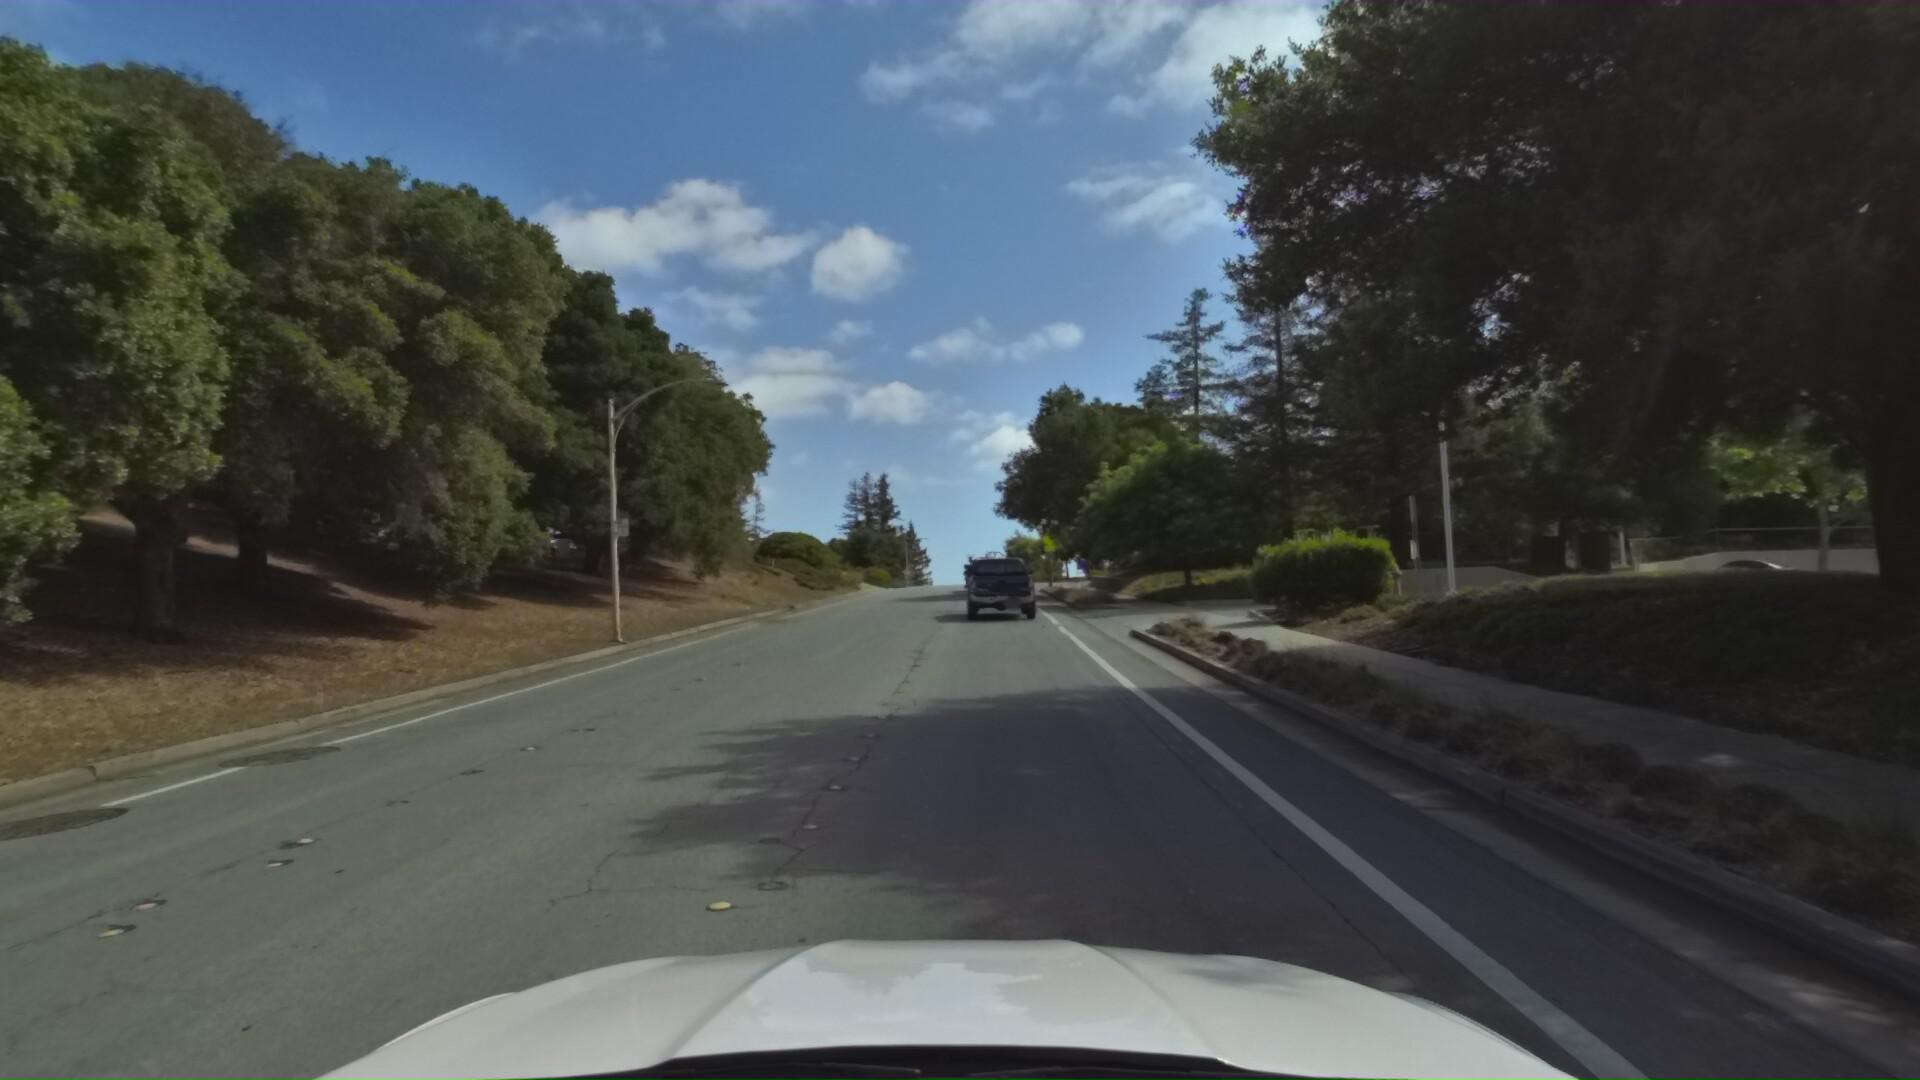car: (963, 546, 1040, 626), (959, 539, 1013, 604)
